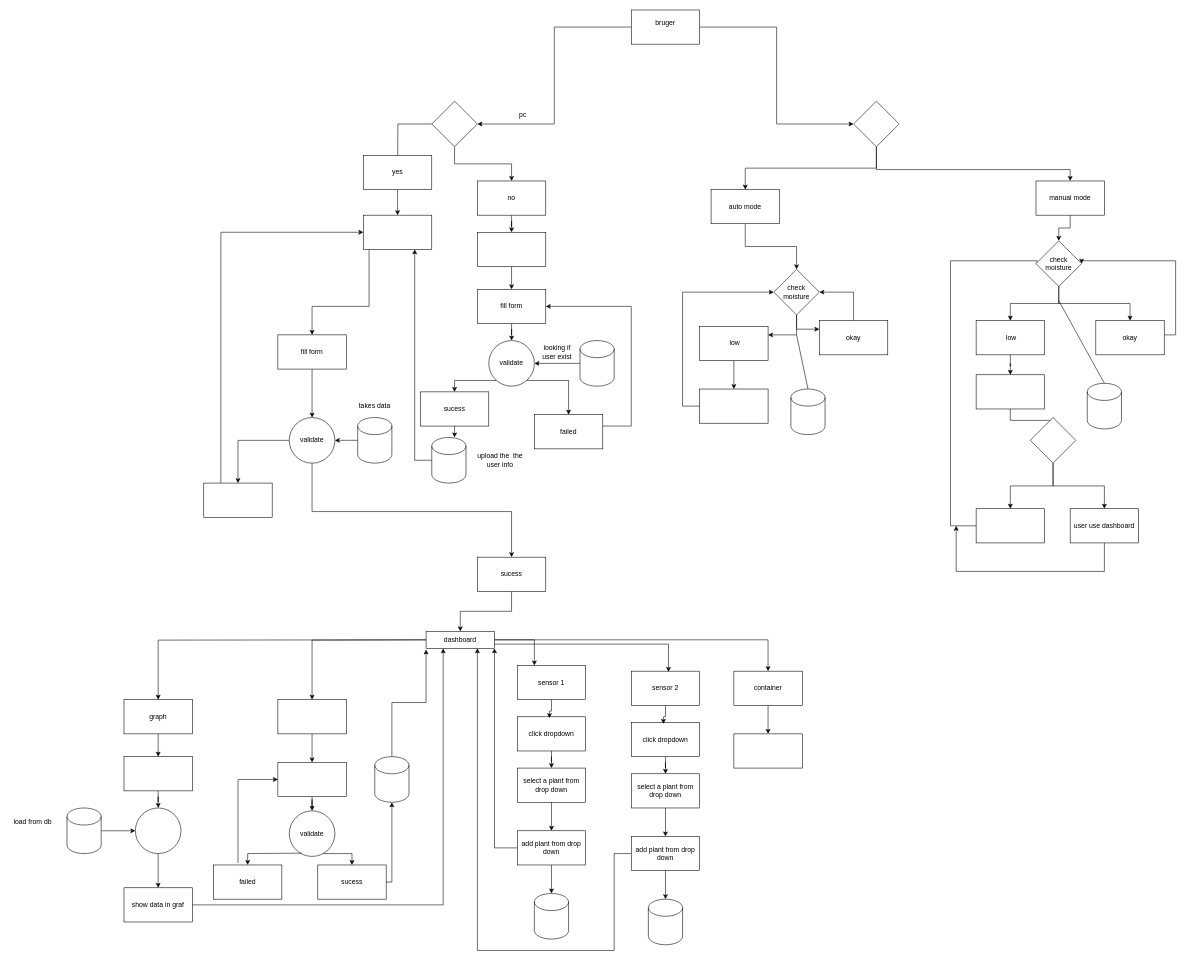
The diagram is 1190 pixels wide and 965 high, and some of its shapes have lost their labels. The shapes that lost their labels are listed below. From the top down, each one's box as (x1, y1, x2, y2) in pixels, then its label:
(431, 101, 477, 147): have login
(853, 101, 899, 147): arduino
(363, 215, 432, 249): login
(477, 232, 546, 266): sign up
(699, 388, 768, 423): water plant
(976, 374, 1045, 409): notification
(1030, 417, 1076, 463): accept btn 00
(203, 483, 272, 517): fail
(976, 508, 1045, 543): person water the plant
(277, 699, 346, 734): add plant manually
(733, 733, 802, 768): show how much water there is in the container
(123, 756, 192, 791): select time period
(277, 762, 346, 797): fill in form
(135, 807, 181, 854): load data
